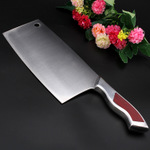knief: (3, 20, 146, 135)
